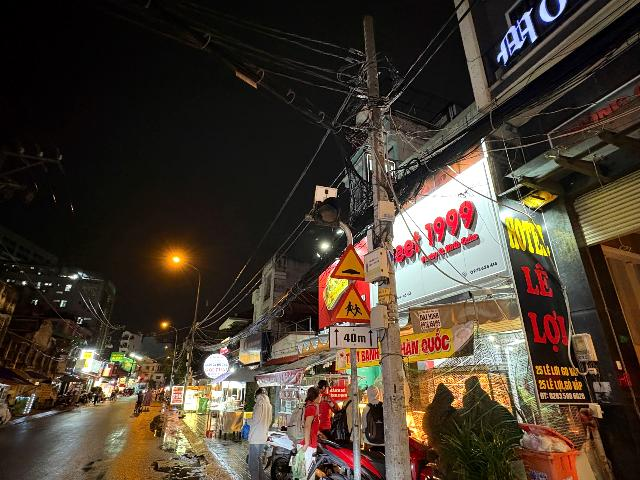duong-co-go-giam-toc: (331, 244, 364, 281)
tre-em-qua-duong: (330, 283, 370, 324)
